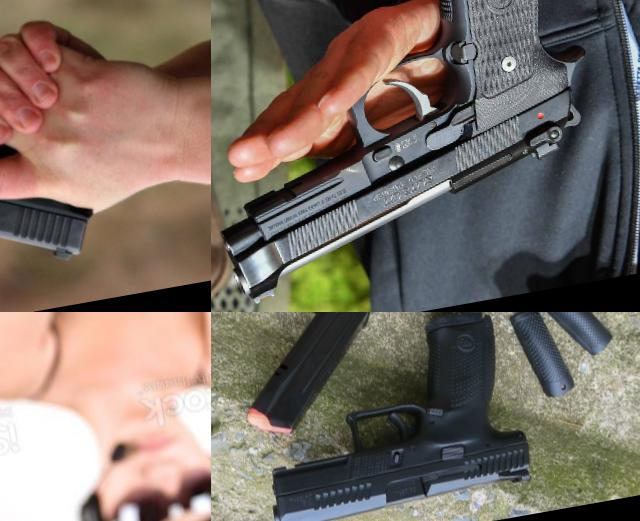handgun: (211, 0, 620, 312), (237, 312, 540, 521), (0, 74, 157, 304)
